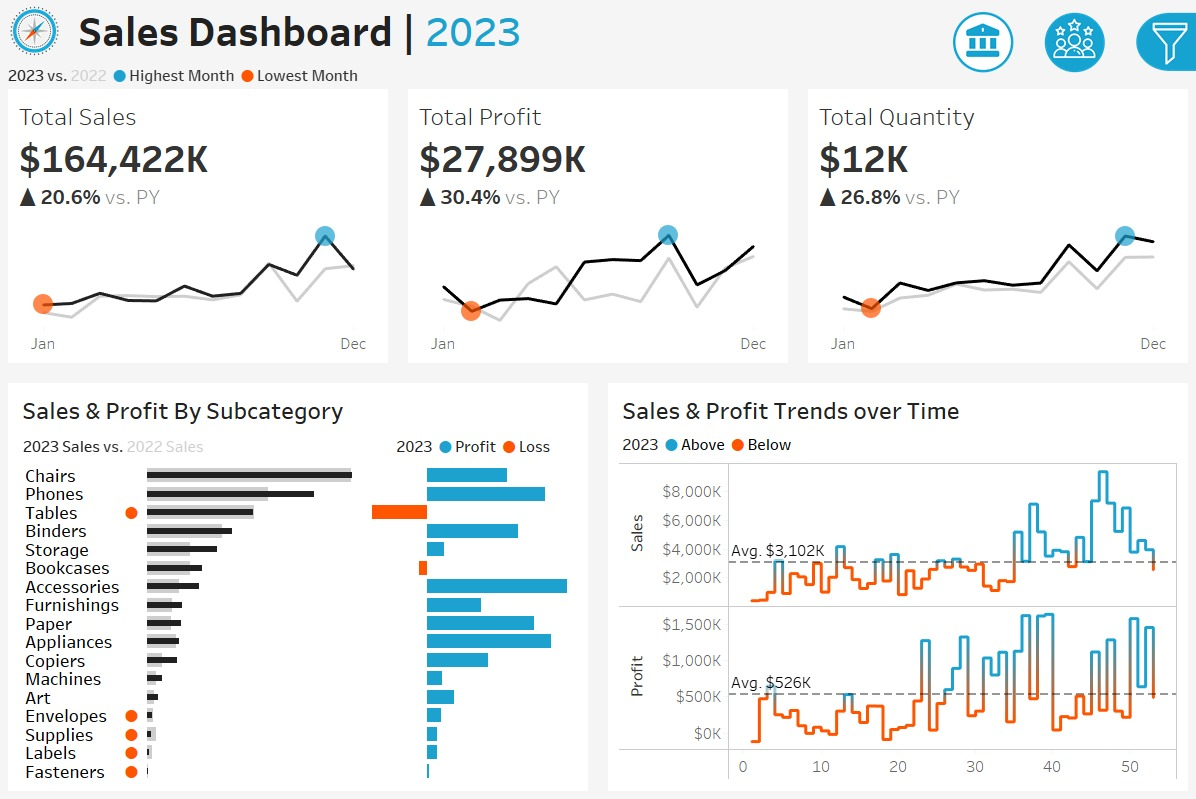

What the dashboard file says about the page in this screenshot:
{"tool":"tableau","page":{"name":"Sales Dashboard","canvas":[1200,800],"ordinal":1},"visuals":[{"type":"image","param":"Image/Icon - Logo.png","box":[0,0,73,59]},{"type":"text","box":[73,0,820,59]},{"type":"dashboard-object","box":[940,6,91,70]},{"type":"dashboard-object","box":[1031,6,91,70]},{"type":"blank","box":[952,10,237,86]},{"type":"worksheet","title":"Legend KPI","mark":"Automatic","box":[0,59,1200,29]},{"type":"worksheet","title":"KPI Sales","mark":"Automatic","rows":["Calculation_721701895347843083"],"cols":["Order Date"],"box":[0,88,400,284]},{"type":"worksheet","title":"KPI Profit","mark":"Automatic","rows":["Min/Max Sales (copy)_237846410425847814"],"cols":["Order Date"],"box":[400,88,400,284]},{"type":"worksheet","title":"KPI Quantity","mark":"Automatic","rows":["Min/Max Sales (copy) (copy)_237846410425856007"],"cols":["Order Date"],"box":[800,88,400,284]},{"type":"text","box":[952,96,237,37]},{"type":"parameter","param":"[Parameters].[Parameter 1]","box":[952,133,237,55]},{"type":"text","box":[952,188,237,32]},{"type":"filter","title":"KPI Sales","param":"[federated.1kpxa041aiai2y1cl4pui1t4eju9].[none:Category:nk]","box":[952,220,237,57]},{"type":"filter","title":"KPI Sales","param":"[federated.1kpxa041aiai2y1cl4pui1t4eju9].[none:Sub-Category:nk]","box":[952,277,237,57]},{"type":"blank","box":[952,334,237,60]},{"type":"text","box":[17,389,566,40]},{"type":"text","box":[617,389,566,40]},{"type":"text","box":[952,394,237,32]},{"type":"filter","title":"KPI Sales","param":"[federated.1kpxa041aiai2y1cl4pui1t4eju9].[none:Region:nk]","box":[952,426,237,57]},{"type":"worksheet","title":"Legend Subcategory","mark":"Automatic","box":[17,429,374,32]},{"type":"text","box":[391,429,192,32]},{"type":"text","box":[617,429,566,29]},{"type":"worksheet","title":"Weekly Trends","mark":"Automatic","rows":["Calculation_721701895334993921","CY Sales (copy)_237846410424180736"],"cols":["Order Date"],"box":[617,458,566,325]},{"type":"worksheet","title":"Subcategory Comparison","mark":"Bar","rows":["Sub-Category","Calculation_2435040078806671369"],"cols":["CY Sales (copy)_721701895335804930","Calculation_721701895334993921","CY Sales (copy)_237846410424180736"],"box":[17,461,566,321.9]},{"type":"filter","title":"KPI Sales","param":"[federated.1kpxa041aiai2y1cl4pui1t4eju9].[none:State:nk]","box":[952,483,237,57]},{"type":"filter","title":"KPI Sales","param":"[federated.1kpxa041aiai2y1cl4pui1t4eju9].[none:City:nk]","box":[952,540,237,57]}]}

Visuals, with their boxes in screenshot pixels (x1, y1, x2, y2), scaled from the page's 1200x800 canvas onto the 1196x799 screenshot:
image: x1=0 y1=0 x2=73 y2=59
text: x1=73 y1=0 x2=890 y2=59
dashboard-object: x1=937 y1=6 x2=1028 y2=76
dashboard-object: x1=1028 y1=6 x2=1118 y2=76
blank: x1=949 y1=10 x2=1185 y2=96
"Legend KPI" worksheet: x1=0 y1=59 x2=1195 y2=88
"KPI Sales" worksheet: x1=0 y1=88 x2=399 y2=372
"KPI Profit" worksheet: x1=399 y1=88 x2=797 y2=372
"KPI Quantity" worksheet: x1=797 y1=88 x2=1195 y2=372
text: x1=949 y1=96 x2=1185 y2=133
parameter: x1=949 y1=133 x2=1185 y2=188
text: x1=949 y1=188 x2=1185 y2=220
"KPI Sales" filter: x1=949 y1=220 x2=1185 y2=277
"KPI Sales" filter: x1=949 y1=277 x2=1185 y2=334
blank: x1=949 y1=334 x2=1185 y2=394
text: x1=17 y1=389 x2=581 y2=428
text: x1=615 y1=389 x2=1179 y2=428
text: x1=949 y1=394 x2=1185 y2=425
"KPI Sales" filter: x1=949 y1=425 x2=1185 y2=482
"Legend Subcategory" worksheet: x1=17 y1=428 x2=390 y2=460
text: x1=390 y1=428 x2=581 y2=460
text: x1=615 y1=428 x2=1179 y2=457
"Weekly Trends" worksheet: x1=615 y1=457 x2=1179 y2=782
"Subcategory Comparison" worksheet (Bar marks): x1=17 y1=460 x2=581 y2=782
"KPI Sales" filter: x1=949 y1=482 x2=1185 y2=539
"KPI Sales" filter: x1=949 y1=539 x2=1185 y2=596
